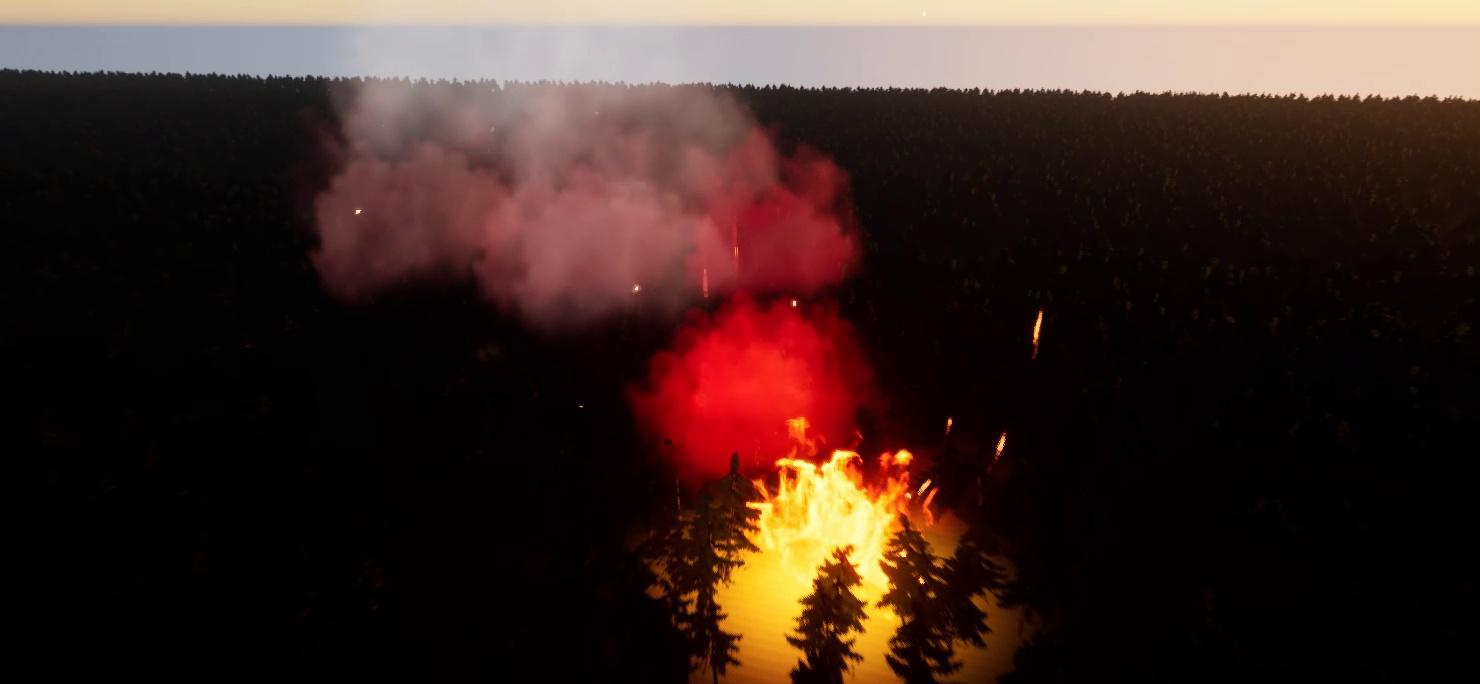fire: (756, 447, 920, 578)
smoke: (320, 57, 870, 307), (637, 299, 866, 466)
